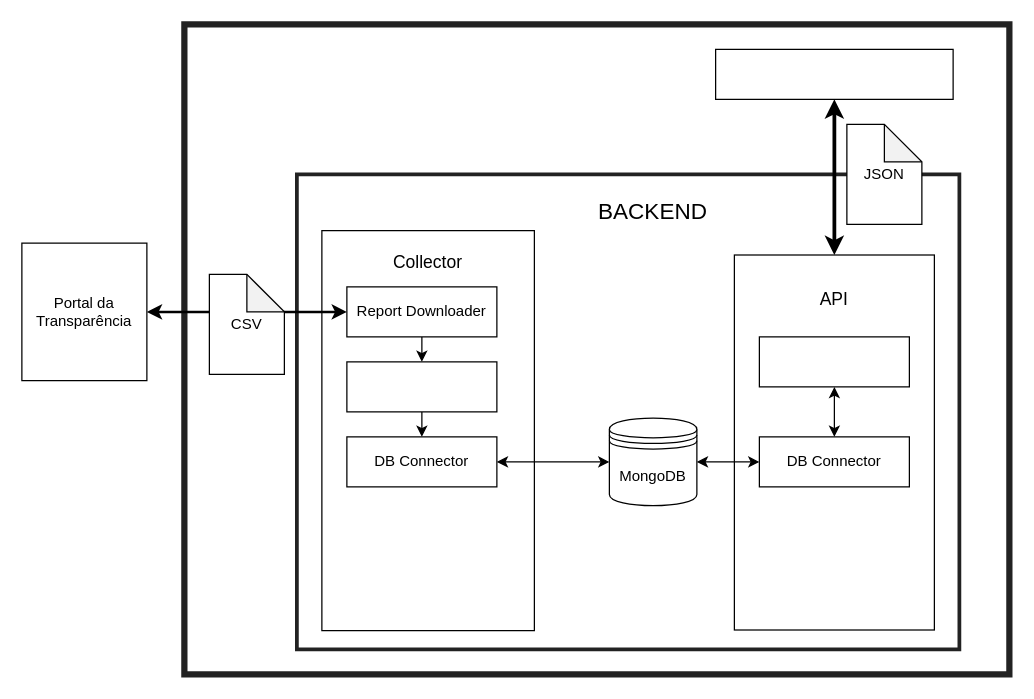
Some shapes in this 1034 by 699 pixel diagram are drawn without their labels. The shapes that lost their labels are listed below. From the top down, each one's centre as x and y in pixels, then its label:
At pixel 833 73: "FRONTEND".
At pixel 833 361: "Data Inspector".
At pixel 421 386: "CSV Converter".
